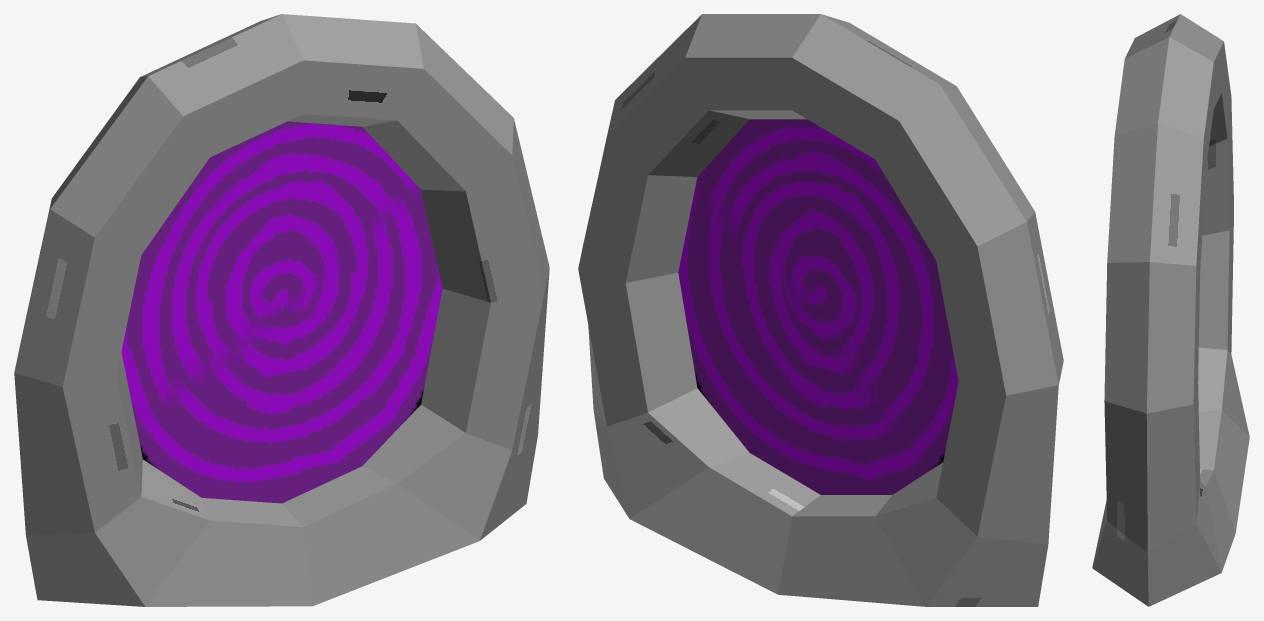
Rendered from Portal.gltf.
3 views of the same model, side by side, from view 1: azimuth 30°, elevation 25°; view 2: azimuth 150°, elevation 25°; view 3: azimuth 270°, elevation 25° (orthographic). The views are drawn at different scales.
Parts seen in each view (by area): view 1: Torus, 平面, 平面.001; view 2: Torus, 平面, 平面.001; view 3: Torus.
Part boxes in pixels (x1,y1,x2,y2): Torus: (14,14,549,606); 平面: (132,181,442,503); 平面.001: (121,121,420,431); Torus: (578,14,1063,606); 平面: (692,119,958,475); 平面.001: (678,176,930,494); Torus: (1092,14,1249,606).
Size of the model in its own units: 4.98 by 5.36 by 1.53.
Materials: 3 (3 with a texture image).
